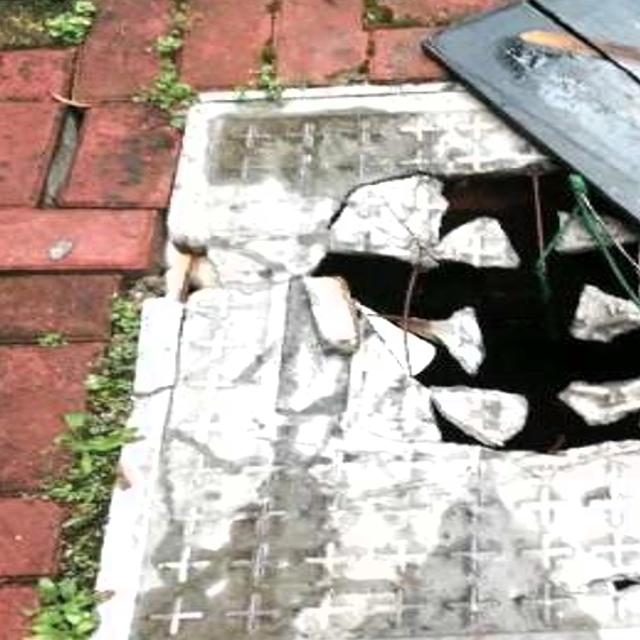broke: (84, 22, 640, 640)
